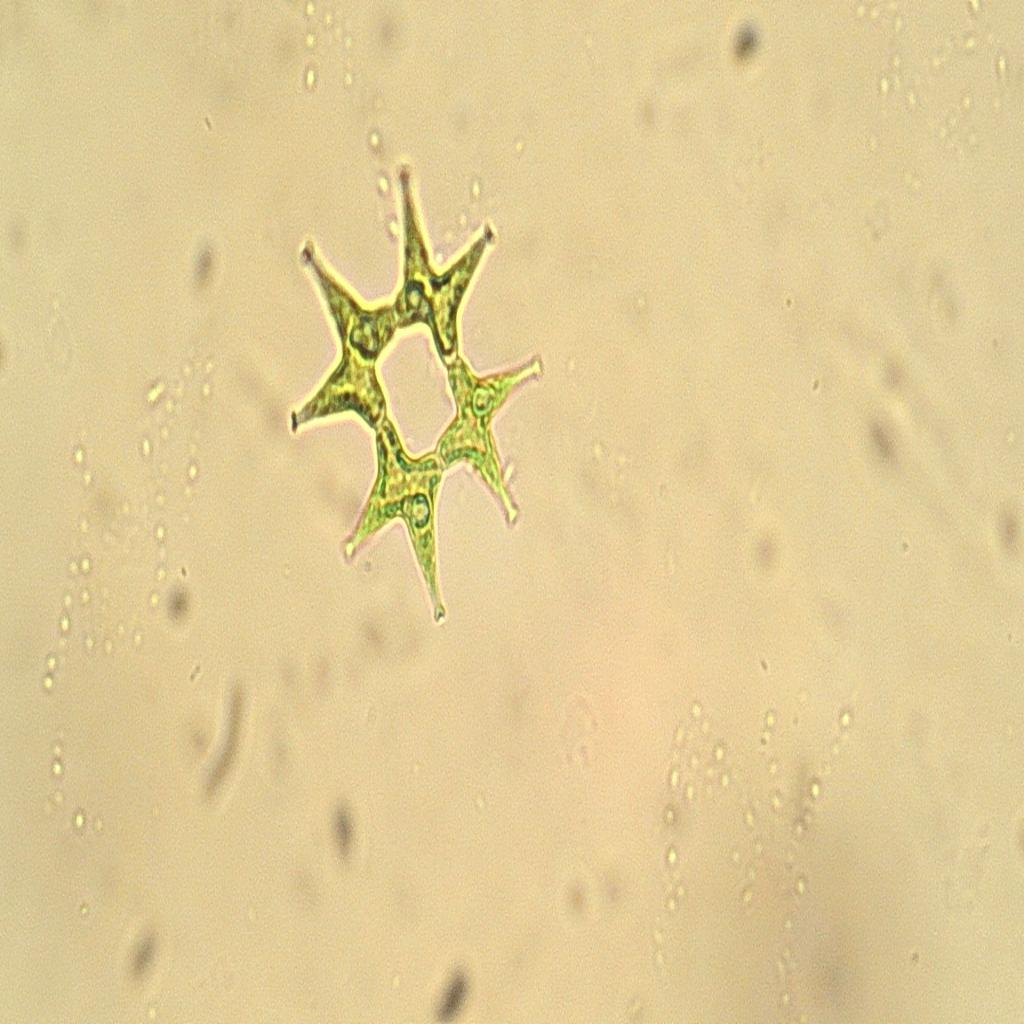Pediastrum_CO: (276, 159, 549, 638)
